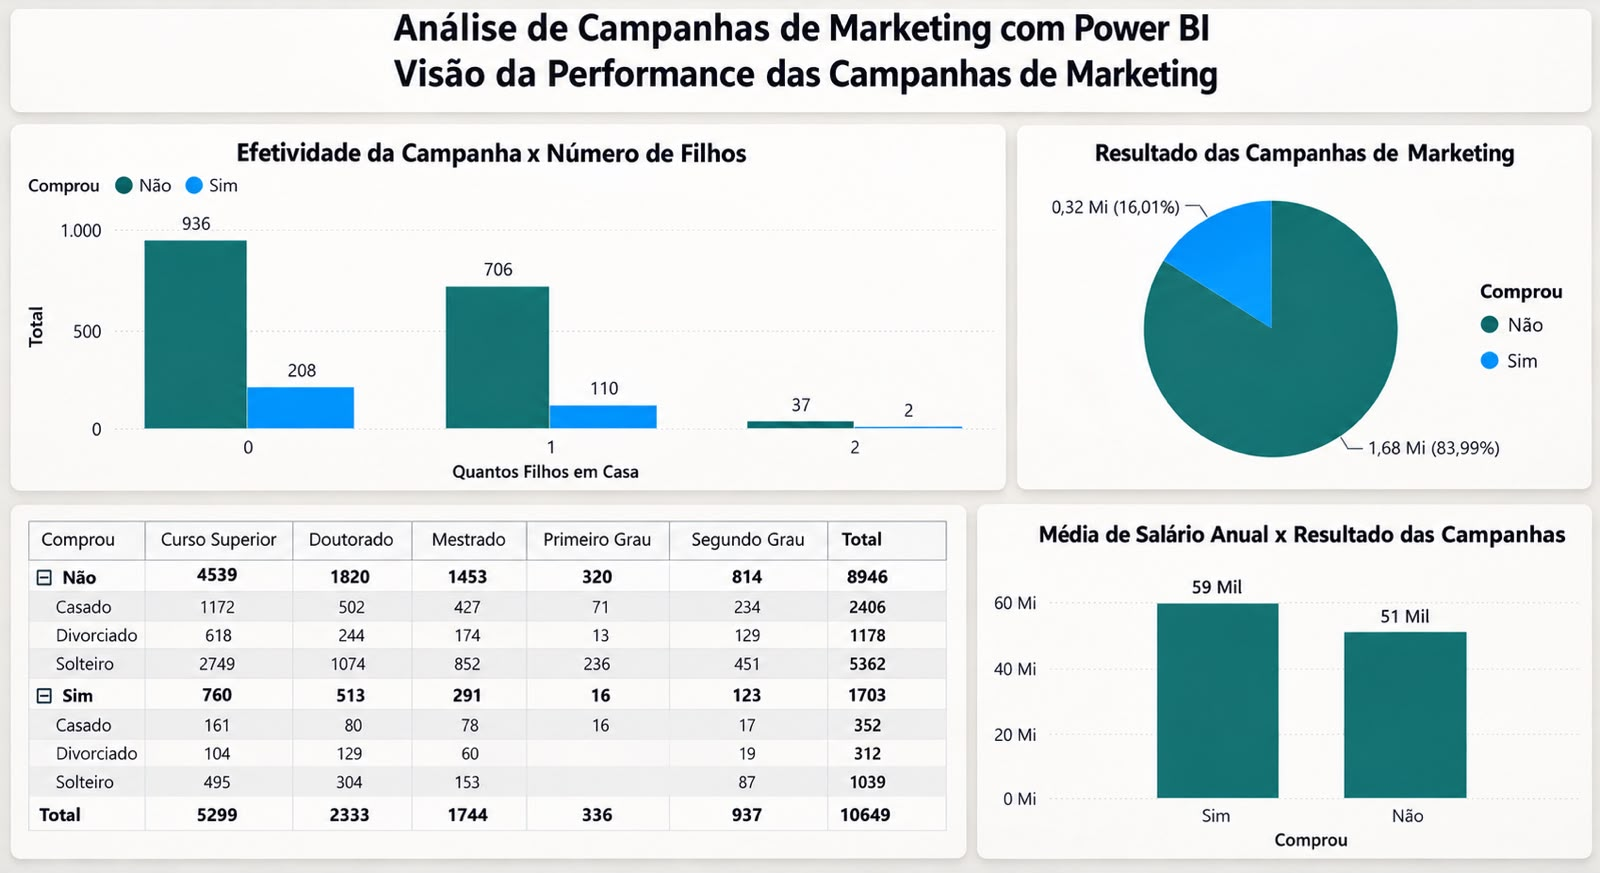

This screenshot's page, from the dashboard's own definition file:
{"tool":"powerbi","page":{"name":"Visão Campanhas","canvas":[1280,720],"ordinal":2},"visuals":[{"type":"textbox","box":[0,0,1271.9,88.1],"z":0},{"type":"pieChart","title":"Resultado das Campanhas de Marketing","fields":{"Category":["DadosMarketing.Comprou"],"Y":["CountNonNull(DadosMarketing.ID)"]},"box":[791.8,124.7,452.1,263],"z":1000},{"type":"clusteredColumnChart","title":"Média de Salario Anual x Resultado das Campanhas","fields":{"Category":["DadosMarketing.Comprou"],"Y":["Avg(DadosMarketing.Salario Anual)"]},"box":[791.8,421.9,452.1,237],"z":2000},{"type":"pivotTable","fields":{"Columns":["DadosMarketing.Escolaridade"],"Rows":["DadosMarketing.Comprou","DadosMarketing.Estado Civil"],"Values":["Sum(DadosMarketing.Numero Visitas WebSite Mes)"]},"box":[37,421.9,712.3,237],"z":3000},{"type":"clusteredColumnChart","title":"Efetividade  da Campanha x Número de Filhos","fields":{"Category":["DadosMarketing.Filhos em Casa"],"Series":["DadosMarketing.Comprou"],"Y":["CountNonNull(DadosMarketing.Filhos em Casa)"]},"box":[37,124.7,712.3,263],"z":4000}]}

Visuals, with their boxes on the page's 1280x720 design canvas (x1, y1, x2, y2). These are canvas units, not pixel positions in the 1600x873 screenshot, which may show the page scaled, cropped or inside an application window:
textbox: select_region(0, 0, 1272, 88)
"Resultado das Campanhas de Marketing" pieChart: select_region(792, 125, 1244, 388)
"Média de Salario Anual x Resultado das Campanhas" clusteredColumnChart: select_region(792, 422, 1244, 659)
pivotTable - DadosMarketing.Escolaridade x DadosMarketing.Comprou: select_region(37, 422, 749, 659)
"Efetividade  da Campanha x Número de Filhos" clusteredColumnChart: select_region(37, 125, 749, 388)
